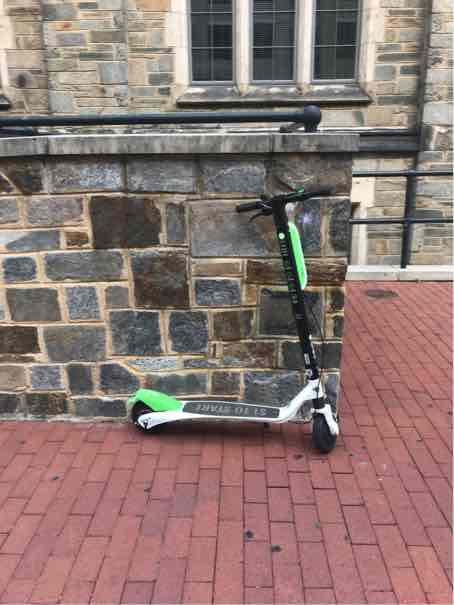scooter: (119, 182, 358, 442)
